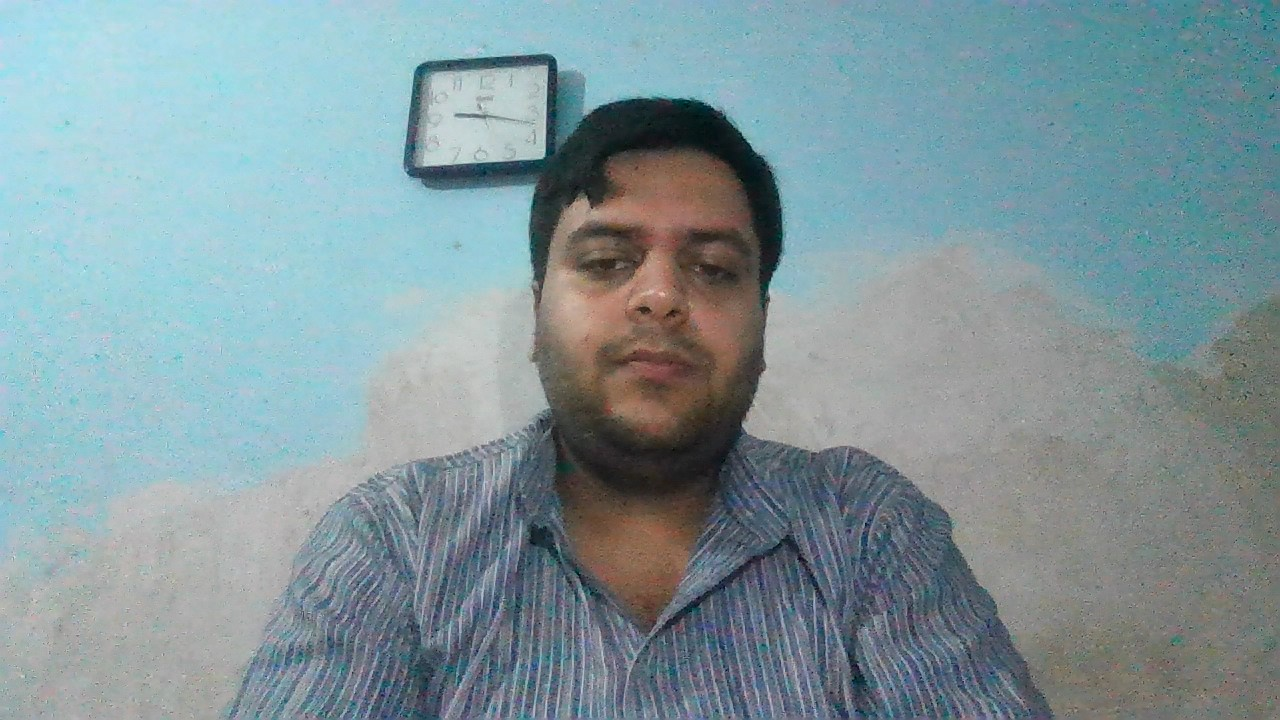No Mask: (524, 268, 783, 491)
